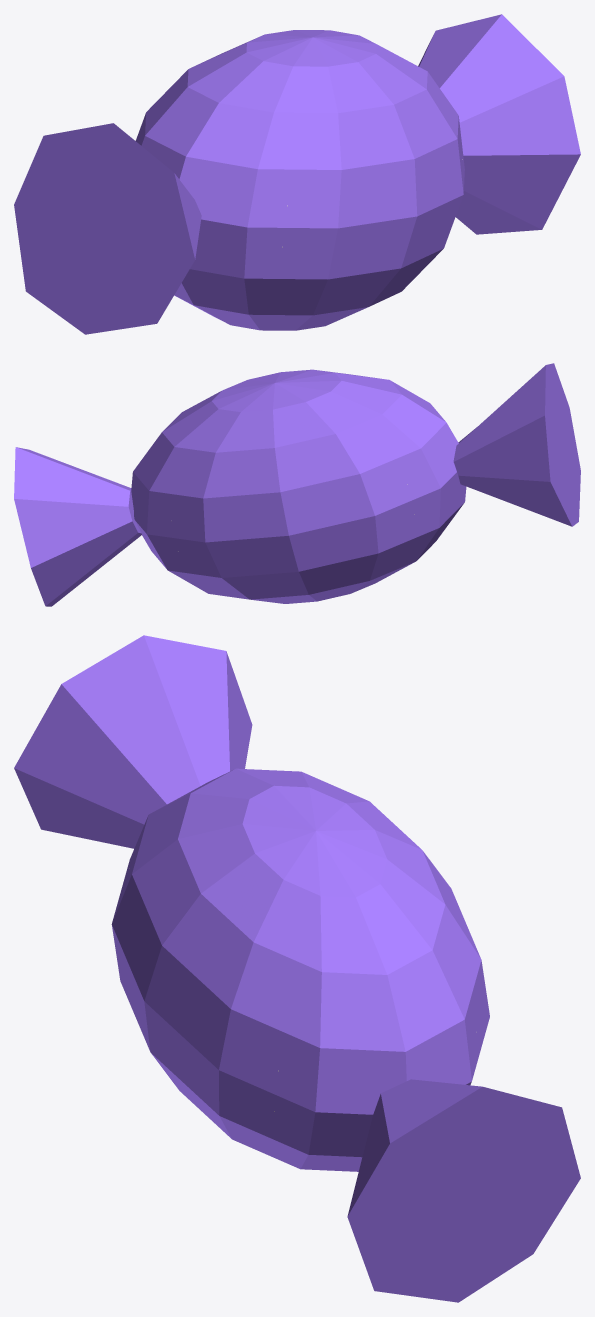
File: WrappedCandy.fbx
The picture shows the model from 3 angles, top to bottom: view 1: azimuth 30°, elevation 25°; view 2: azimuth 150°, elevation 25°; view 3: azimuth 270°, elevation 25°; orthographic projection. The views are drawn at different scales.
Visible parts, largest first — view 1: WrappedCandy; view 2: WrappedCandy; view 3: WrappedCandy.
Part boxes in pixels (x1,y1,x2,y2): WrappedCandy: [14, 14, 580, 334]; WrappedCandy: [14, 363, 580, 606]; WrappedCandy: [14, 635, 580, 1302].
Size of the model in its own units: 574 by 295 by 394.
1 material, 1 textured.
